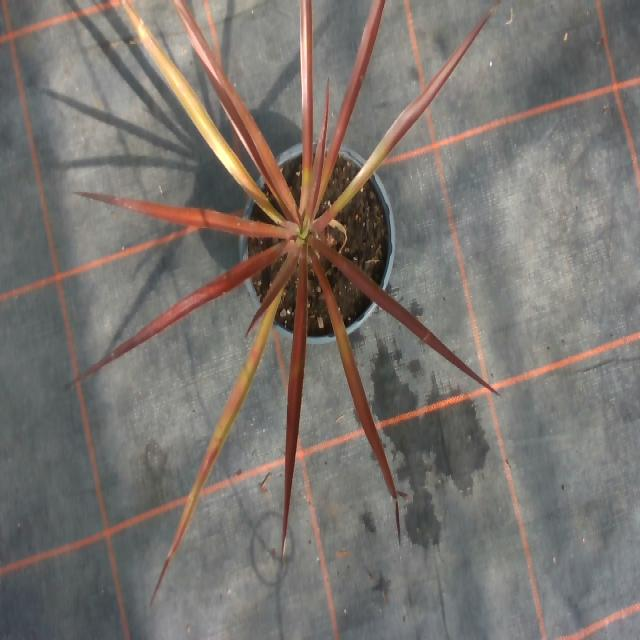Yucca-aloifolia: (314, 0, 499, 229), (151, 295, 280, 603), (123, 0, 282, 223), (67, 245, 283, 385), (312, 239, 498, 395), (173, 0, 298, 220), (312, 253, 398, 499), (322, 0, 385, 188), (77, 192, 293, 237), (285, 249, 305, 524), (247, 247, 300, 332), (308, 81, 327, 219), (301, 0, 313, 203)
